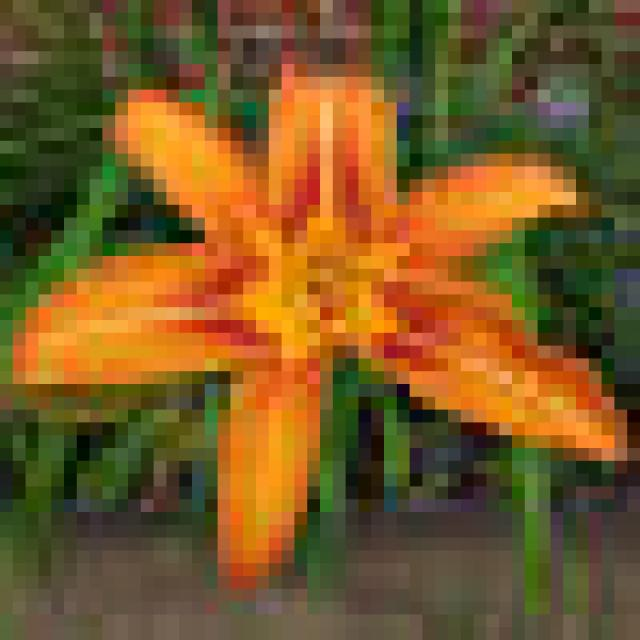lily: (10, 36, 640, 571)
